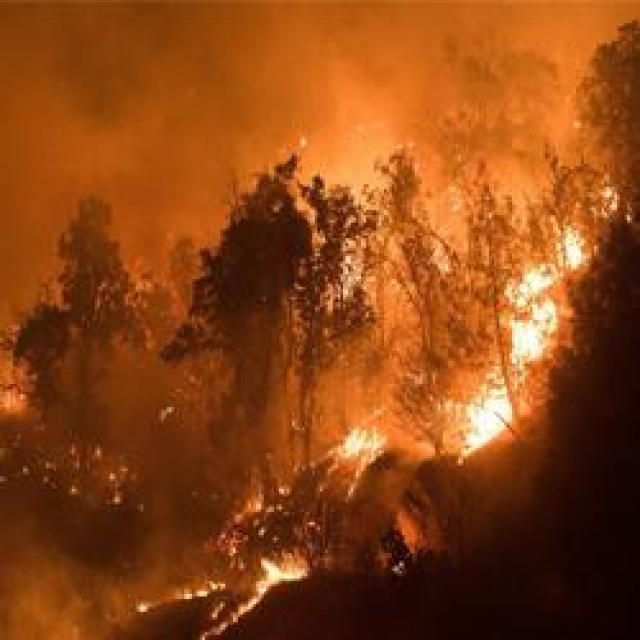fire: (508, 296, 558, 372), (464, 394, 512, 445), (523, 260, 558, 317)
smoke: (3, 4, 254, 164), (194, 8, 453, 137), (105, 359, 211, 493), (0, 512, 105, 640), (135, 519, 174, 596)
